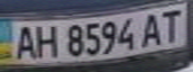4: (115, 15, 142, 51)
5: (81, 20, 103, 56)
8: (63, 21, 84, 57)
9: (100, 18, 121, 54)
A: (9, 22, 39, 61), (136, 10, 166, 47)
H: (30, 22, 60, 60)
T: (154, 7, 187, 44)
